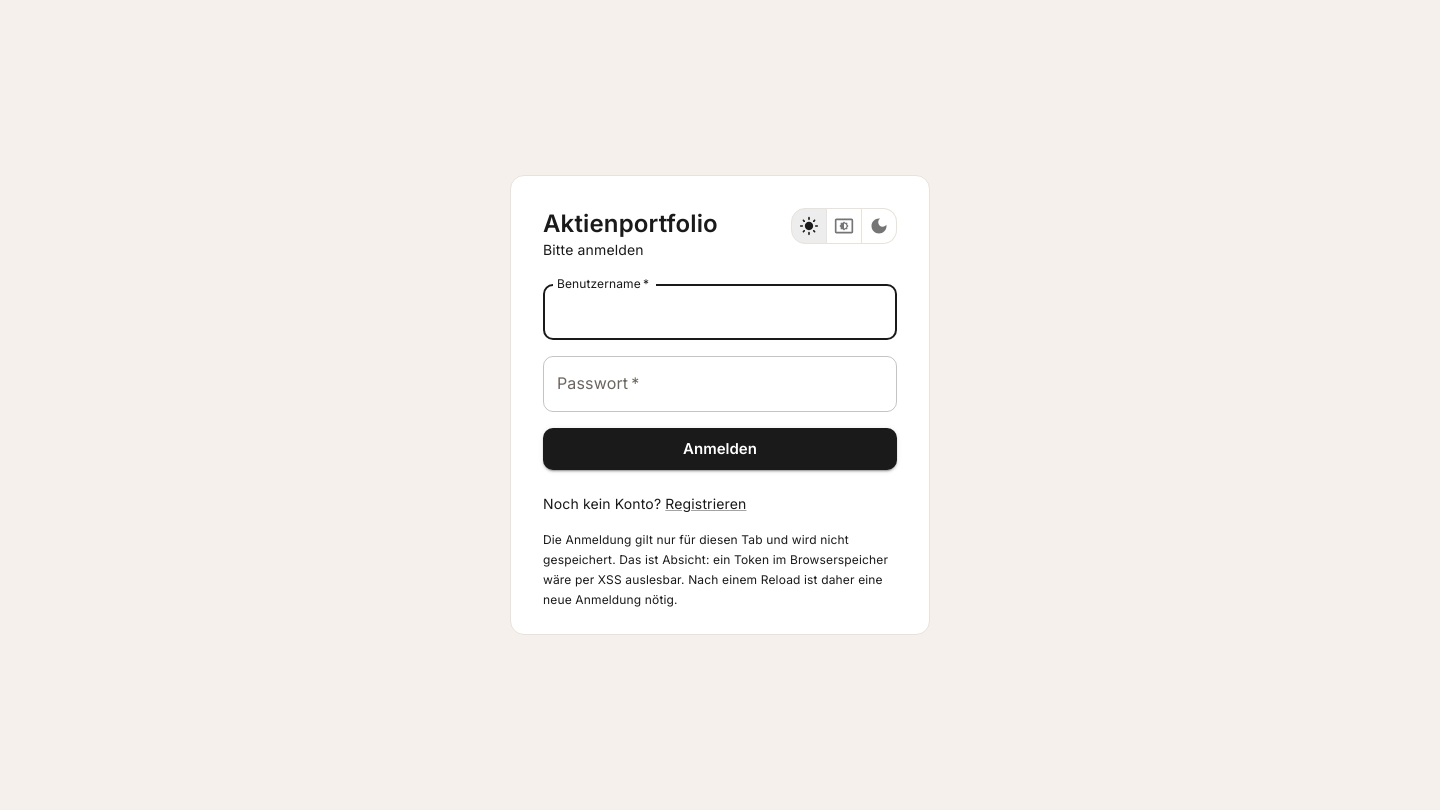
Test case: Desktop › zeigt die Navigation dauerhaft und keinen Hamburger-Knopf
This screenshot has width=1440, height=810.
In the field labelled "Benutzername *": (720, 312) [543,284,897,340], type "demo"
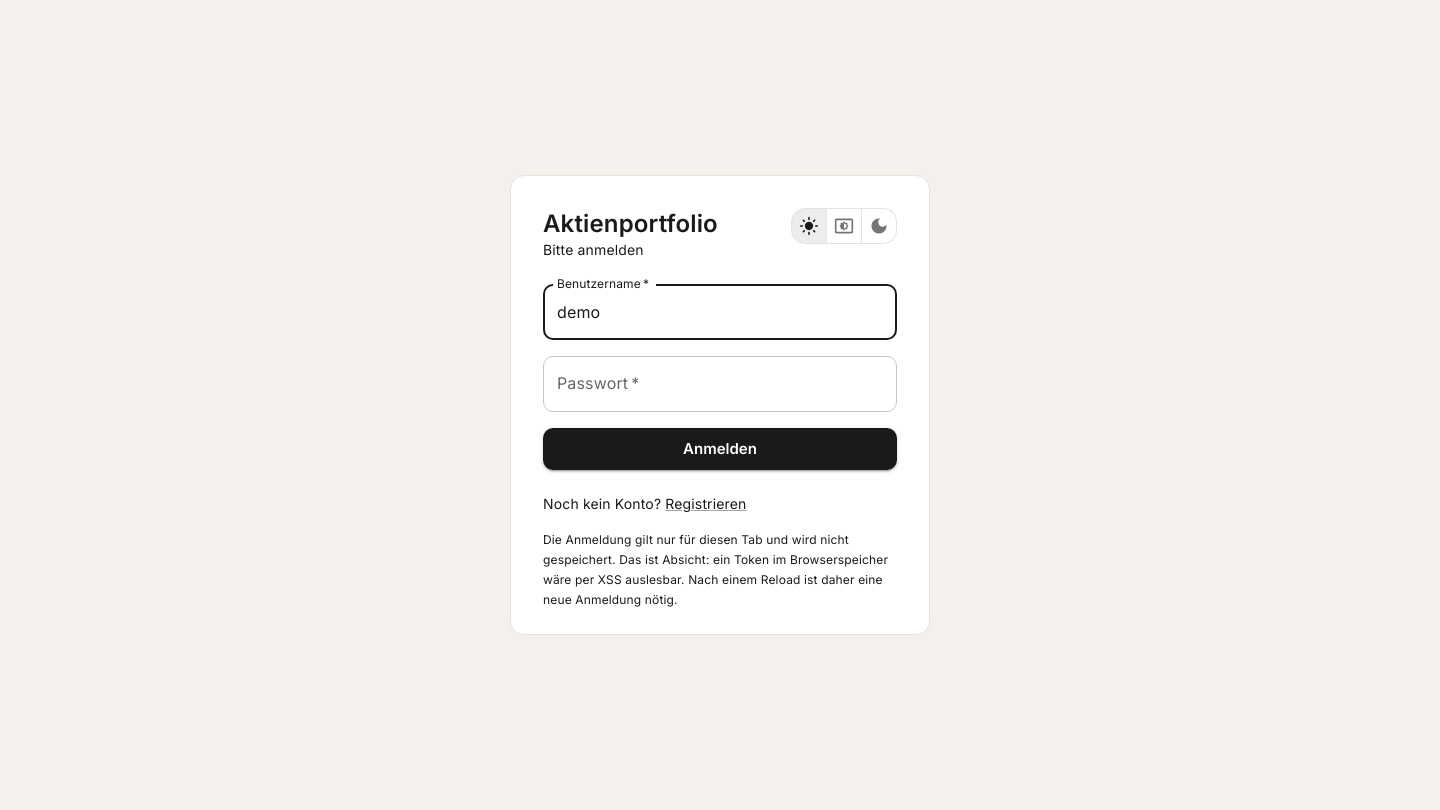
In the password field labelled "Passwort *": (720, 384) [543,356,897,412], type "demo1234"
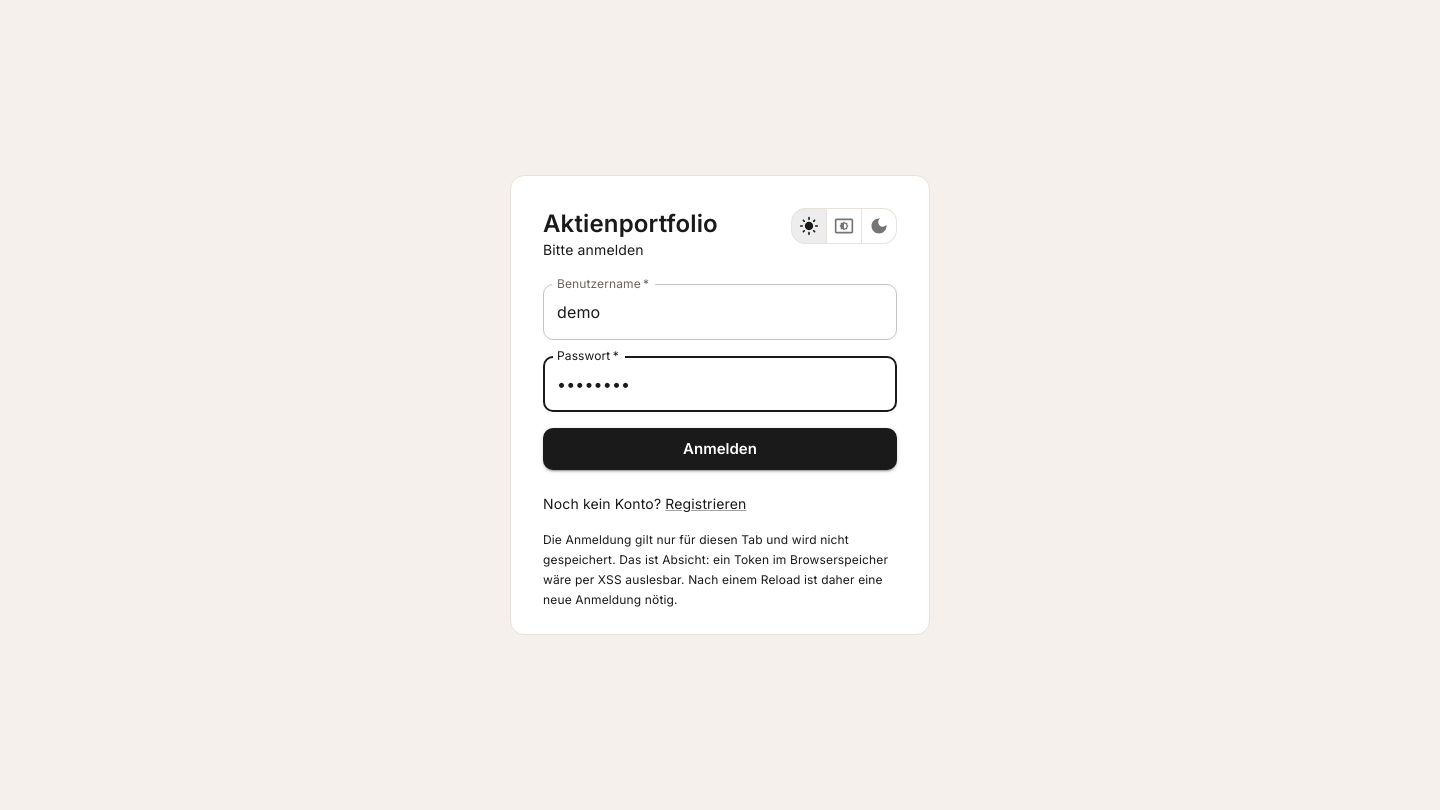
Click the button "Anmelden": (720, 449) [543,428,897,470]
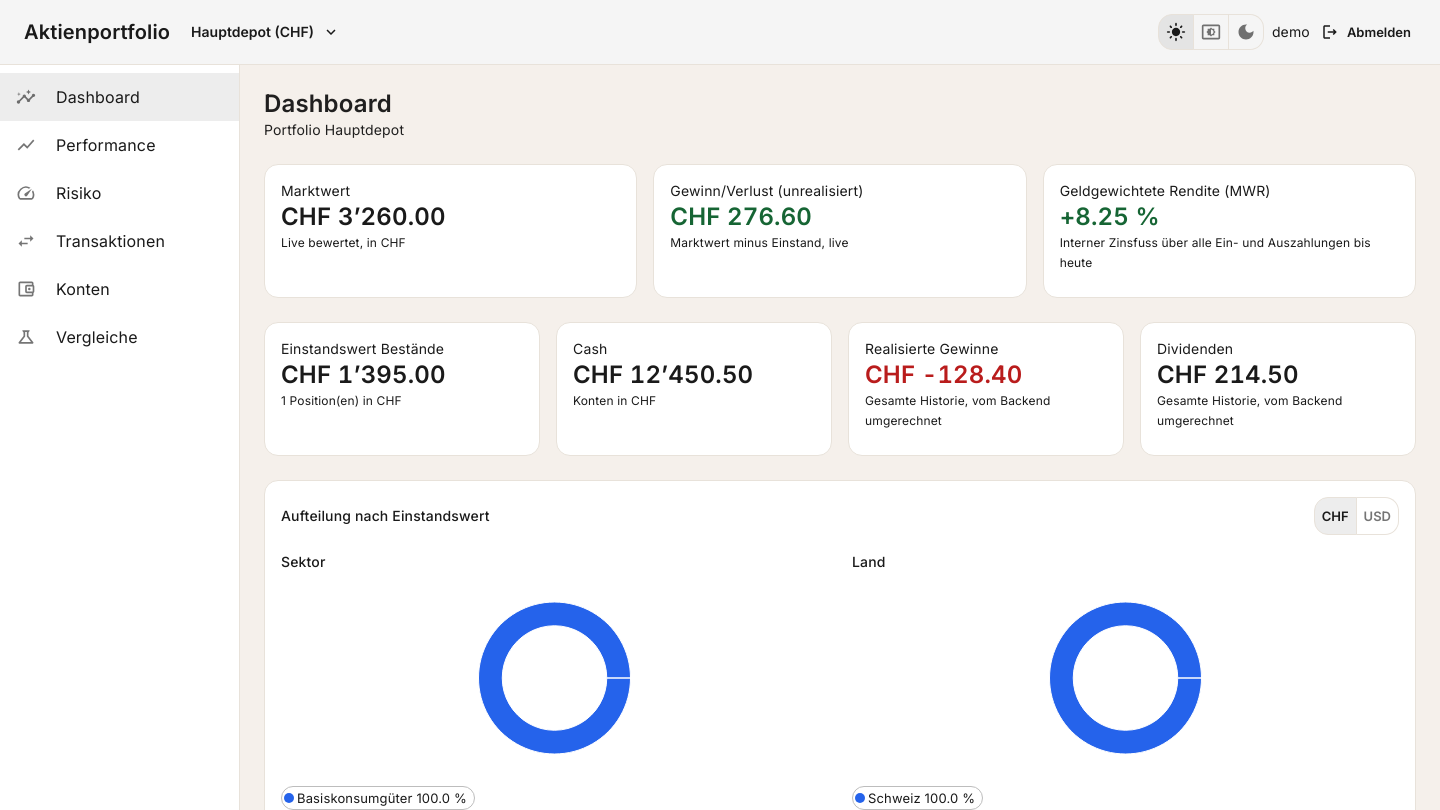
Now the button "Abmelden" is shown, box [1318,17,1416,47]
Now the link "Konten" is shown, box [16,279,110,299]
